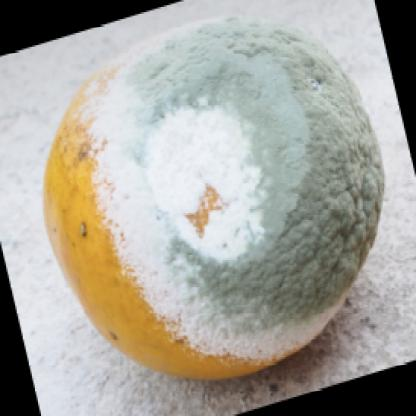rotten_orange: (32, 7, 384, 383)
